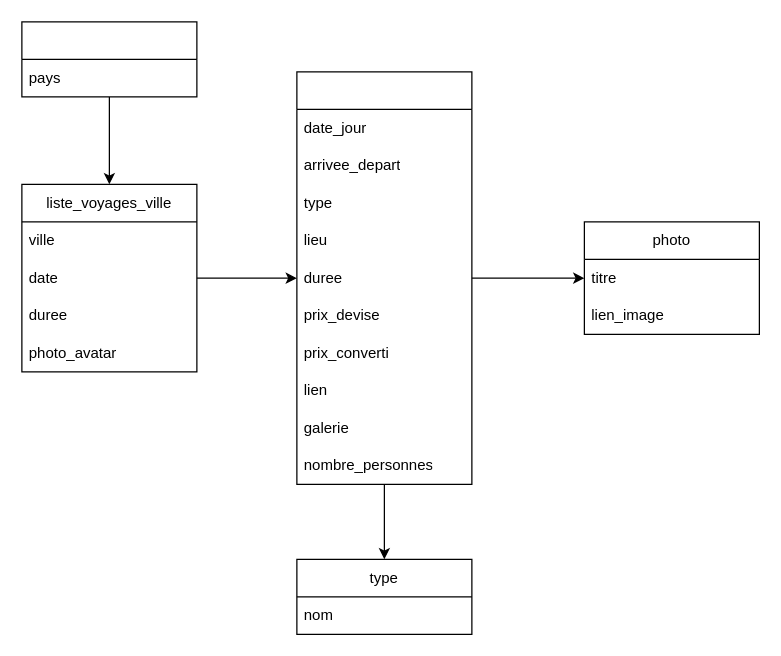
Image size: 781x656. Some labels were removed from this diagram. The shapes that lost their labels are listed below. From the top down, each one's box as (x1, y1, x2, y2) in pixels, then its label:
(21, 21, 197, 97): liste_voyages_pays
(296, 71, 472, 484): itineraire
